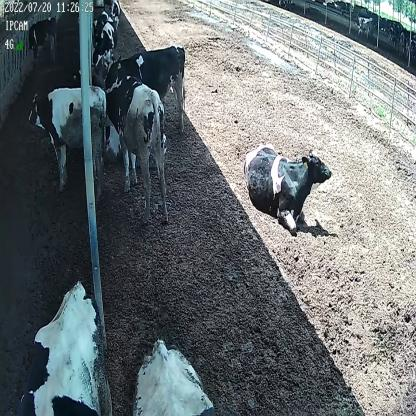cow: (104, 75, 171, 227), (26, 82, 106, 200), (243, 138, 332, 235), (105, 44, 190, 131), (92, 16, 117, 72), (109, 0, 120, 27)
